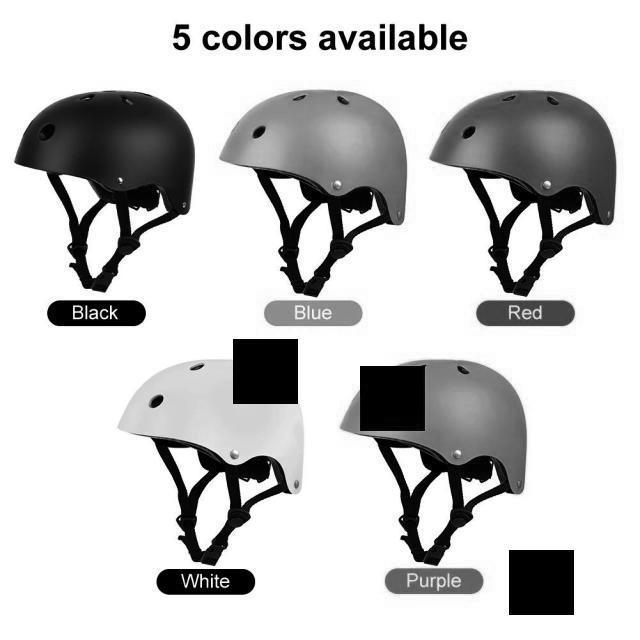helmet: (428, 88, 617, 296), (13, 89, 195, 292), (218, 88, 407, 226), (339, 358, 527, 495), (116, 358, 304, 494)
